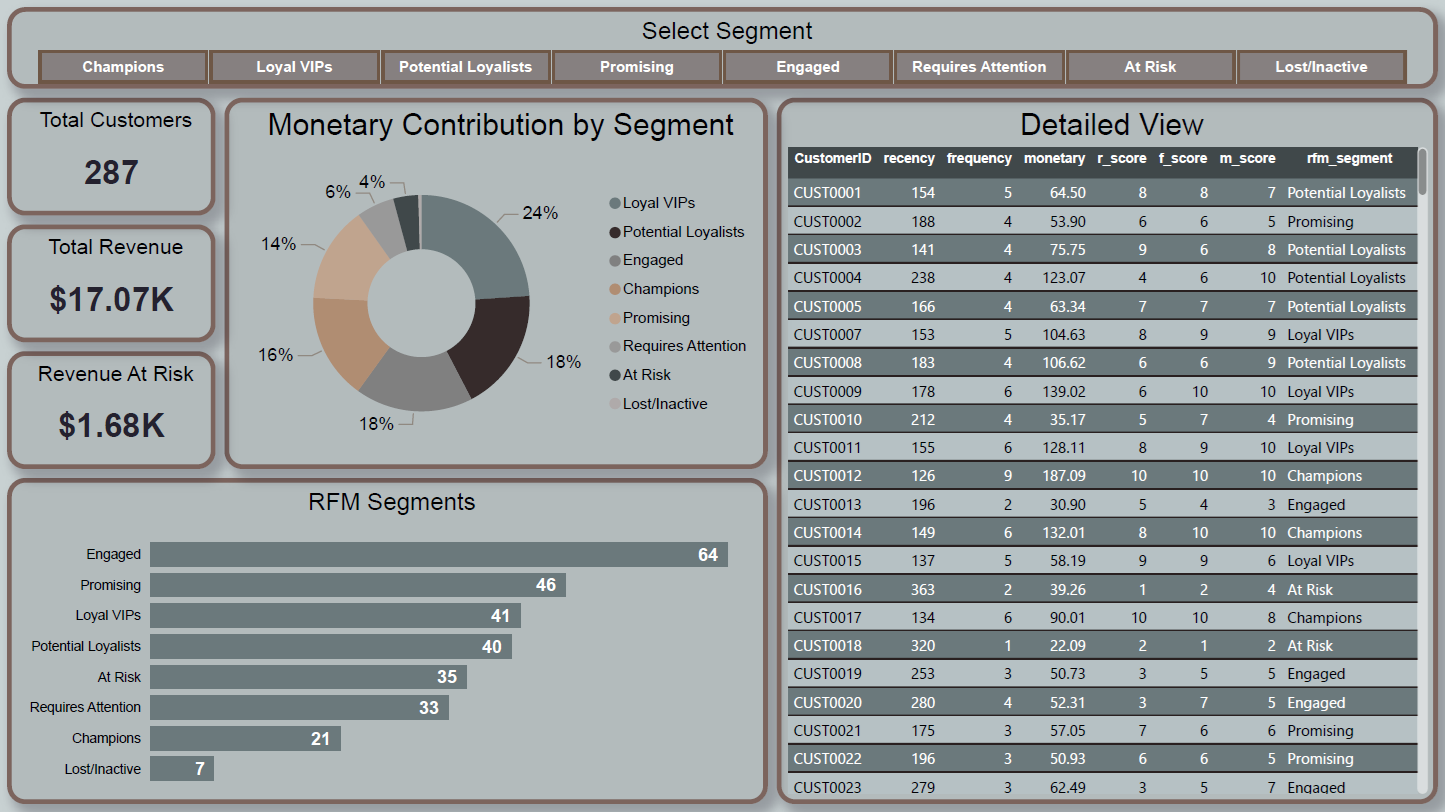

Layout of this report page (visuals, bound fields, positions):
{"tool":"powerbi","page":{"name":"Page 1","canvas":[1280,720],"ordinal":0},"visuals":[{"type":"cardVisual","title":"Total Customers","fields":{"Data":["Query1.total_customers"]},"box":[8,88,184,104],"z":0},{"type":"clusteredBarChart","title":"RFM Segments","fields":{"Y":["CountNonNull(Query1.CustomerID)"],"Category":["Query1.rfm_segment"]},"box":[8,424,672,288],"z":1000},{"type":"tableEx","title":"Detailed View","fields":{"Values":["Query1.CustomerID","Query1.recency","Query1.frequency","Query1.monetary","Query1.r_score","Query1.f_score","Query1.m_score","Query1.rfm_segment"]},"box":[688,88,584,624],"z":2000},{"type":"slicer","title":"Select Segment","fields":{"Values":["Query1.rfm_segment"]},"box":[8,8,1264,72],"z":4000},{"type":"donutChart","title":"Monetary Contribution by Segment","fields":{"Category":["Query1.rfm_segment"],"Y":["Sum(Query1.monetary)"]},"box":[200,88,480,328],"z":5000},{"type":"cardVisual","title":"Revenue At Risk","fields":{"Data":["Query1.Revenue at Risk"]},"box":[8,312,184,104],"z":6000},{"type":"cardVisual","title":"Total Revenue","fields":{"Data":["Query1.Total Revenue"]},"box":[8,200,184,104],"z":7000}]}

Visuals, with their boxes in screenshot pixels (x1, y1, x2, y2), scaled from the page's 1280x720 canvas onto the 1445x812 screenshot:
"Total Customers" cardVisual: l=9, t=99, r=217, b=217
"RFM Segments" clusteredBarChart: l=9, t=478, r=768, b=803
"Detailed View" tableEx: l=777, t=99, r=1436, b=803
"Select Segment" slicer: l=9, t=9, r=1436, b=90
"Monetary Contribution by Segment" donutChart: l=226, t=99, r=768, b=469
"Revenue At Risk" cardVisual: l=9, t=352, r=217, b=469
"Total Revenue" cardVisual: l=9, t=226, r=217, b=343
